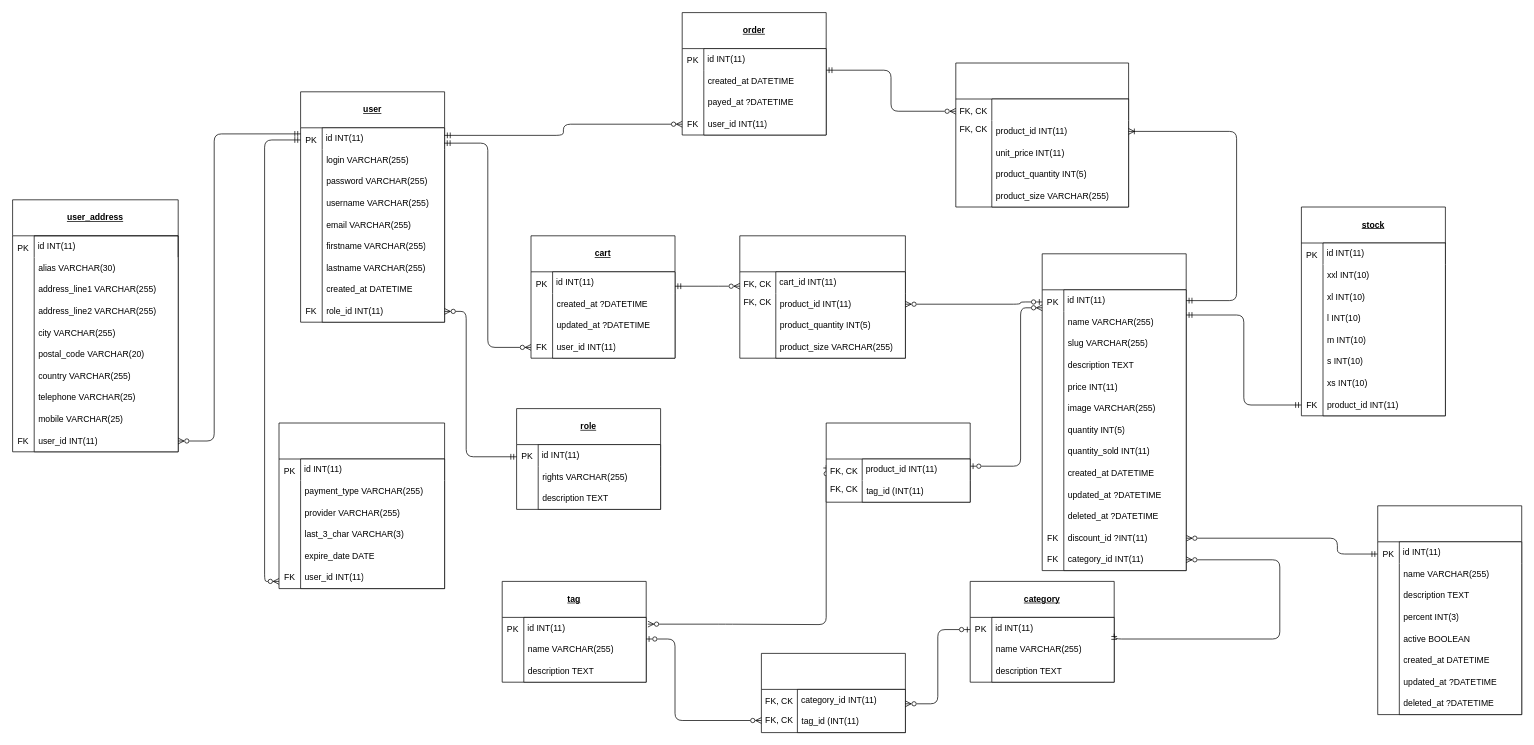
The diagram is 1534 pixels wide and 745 high, and some of its shapes have lost their labels. The box of each missing label's shape, as (x1, y1, x2, y2) in pixels:
cart_product: (739, 235, 905, 358)
category_tag: (761, 653, 905, 733)
discount: (1377, 505, 1522, 715)
order_id INT(11): (991, 98, 1129, 207)
order_product: (955, 62, 1129, 207)
product: (1041, 253, 1186, 571)
product_tag: (825, 422, 970, 502)
user_payment: (278, 422, 445, 589)
